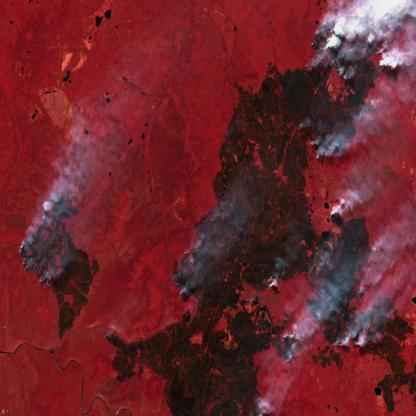fire: (301, 15, 390, 169), (271, 293, 371, 372), (13, 197, 60, 298), (323, 197, 348, 236)
